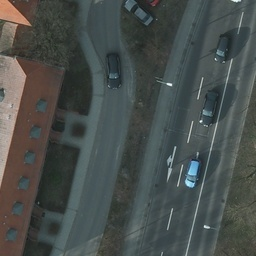car: (198, 88, 218, 129), (122, 1, 153, 25), (105, 51, 123, 90), (214, 34, 231, 63), (185, 157, 201, 187)
